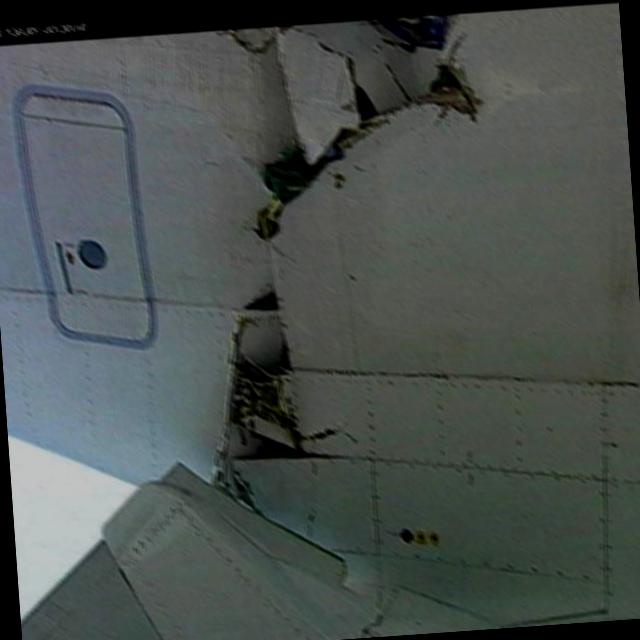crack: (224, 22, 500, 252)
